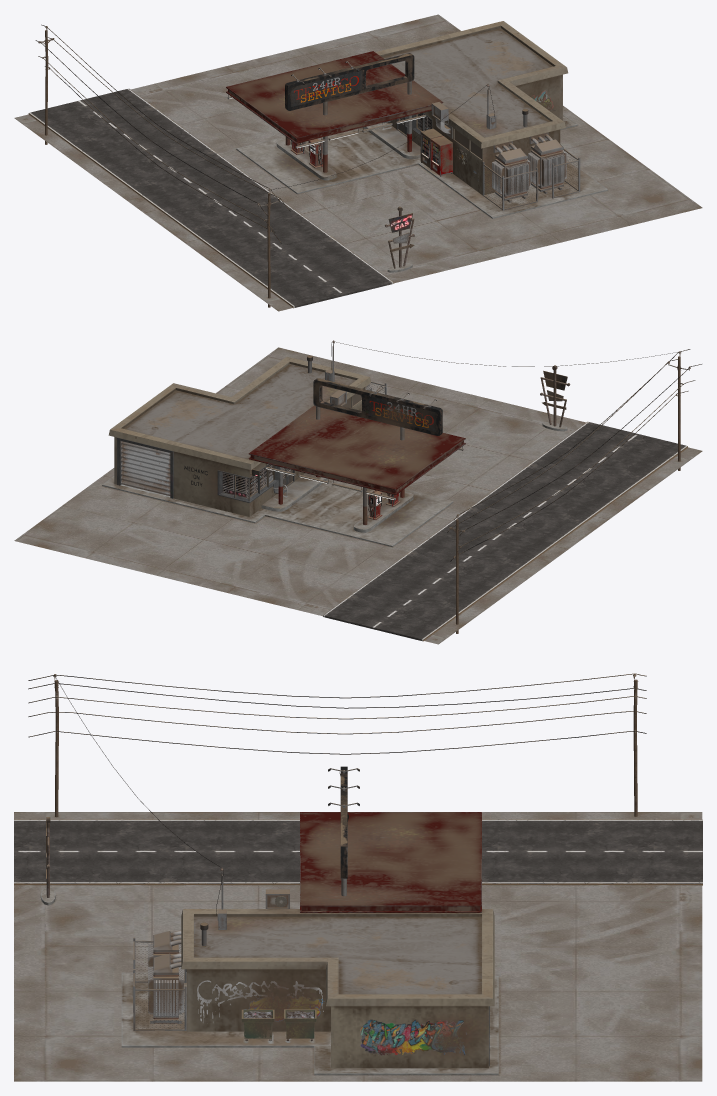
Rendered from lm_gas_old.glb.
3 views of the same model, one above another, from view 1: azimuth 30°, elevation 25°; view 2: azimuth 150°, elevation 25°; view 3: azimuth 270°, elevation 25° (orthographic). The views are drawn at different scales.
Visible parts, largest first — view 1: GROUND_LOW_POLY, ROAD_LOW_POLY, STATION_LOW_POLY, ROOF_LOW_POLY_LOW_POLY, FLOOR_LOW_POLY, BILLBOARD_LOW_POLY, TEXT_LOW_POLY, BASE_LOW_POLY, CABLE_LOW_POLY, GENERATOR_FRIZE_LOW_POLY, GENERATOR_FRIZE_2_LOW_POLY, FENCE_LOW_POLY (+5 smaller); view 2: GROUND_LOW_POLY, ROAD_LOW_POLY, STATION_LOW_POLY, ROOF_LOW_POLY_LOW_POLY, FLOOR_LOW_POLY, GATE_LOW_POLY, BILLBOARD_LOW_POLY, BASE_LOW_POLY, TEXT_LOW_POLY, CABLE_LOW_POLY, WOOD_FRAME_LOW_POLY, JALOUSIE_LOW_POLY (+2 smaller); view 3: GROUND_LOW_POLY, STATION_LOW_POLY, ROAD_LOW_POLY, ROOF_LOW_POLY_LOW_POLY, FLOOR_LOW_POLY, TEXT_LOW_POLY, CABLE_LOW_POLY, GENERATOR_2_LOW_POLY, GENERATOR_FRIZE_2_LOW_POLY, TRASH_1_LOW_POLY, TRASH_2_LOW_POLY, BILLBOARD_LOW_POLY (+1 smaller).
Part boxes in pixels (x1,y1,x2,y2): GROUND_LOW_POLY: (14,14,702,311); ROAD_LOW_POLY: (28,88,393,308); STATION_LOW_POLY: (375,21,568,194); ROOF_LOW_POLY_LOW_POLY: (226,51,443,143); FLOOR_LOW_POLY: (236,114,607,218); BILLBOARD_LOW_POLY: (285,53,414,110); TEXT_LOW_POLY: (291,70,555,181); BASE_LOW_POLY: (276,122,420,272); CABLE_LOW_POLY: (35,24,290,243); GENERATOR_FRIZE_LOW_POLY: (492,159,530,194); GENERATOR_FRIZE_2_LOW_POLY: (528,150,566,186); FENCE_LOW_POLY: (482,149,580,210); GROUND_LOW_POLY: (14,347,702,644); ROAD_LOW_POLY: (323,421,687,641); STATION_LOW_POLY: (108,356,371,516); ROOF_LOW_POLY_LOW_POLY: (248,405,465,494); FLOOR_LOW_POLY: (102,469,453,547); GATE_LOW_POLY: (121,441,170,495); BILLBOARD_LOW_POLY: (313,378,442,435); BASE_LOW_POLY: (261,422,567,532); TEXT_LOW_POLY: (184,395,436,497); CABLE_LOW_POLY: (447,349,701,561); WOOD_FRAME_LOW_POLY: (117,437,294,502); JALOUSIE_LOW_POLY: (222,464,291,498); GROUND_LOW_POLY: (14,812,702,1081); STATION_LOW_POLY: (181,909,494,1068); ROAD_LOW_POLY: (14,819,702,885); ROOF_LOW_POLY_LOW_POLY: (300,812,481,912); FLOOR_LOW_POLY: (121,972,498,1075); TEXT_LOW_POLY: (197,772,467,1055); CABLE_LOW_POLY: (28,673,646,754); GENERATOR_2_LOW_POLY: (153,953,186,1022); GENERATOR_FRIZE_2_LOW_POLY: (148,966,183,1015); TRASH_1_LOW_POLY: (241,1009,274,1040); TRASH_2_LOW_POLY: (284,1009,316,1040); BILLBOARD_LOW_POLY: (340,766,347,878).
Bounding box in the file's own units: 2581 × 681 × 2754.
4 materials, 4 textured.
